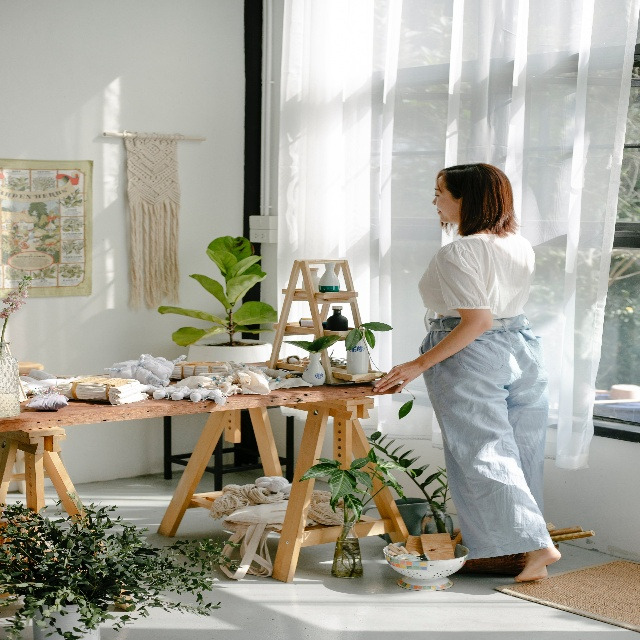Sin_guantes: (373, 357, 422, 394)
